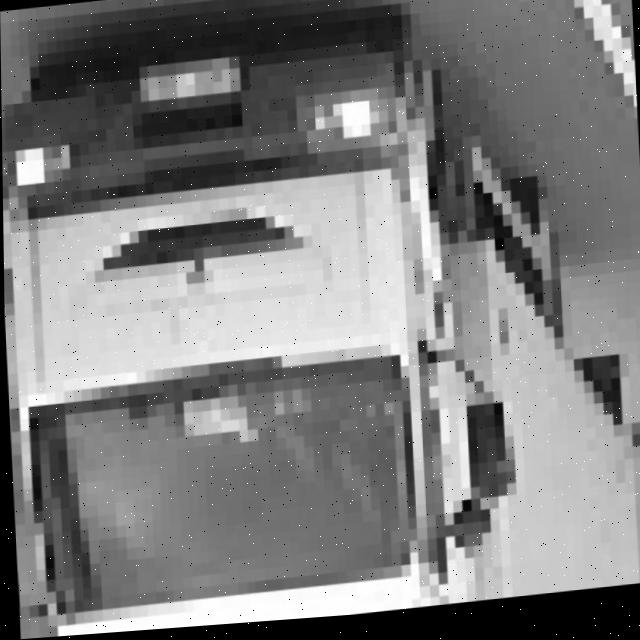truck: (2, 37, 504, 640)
